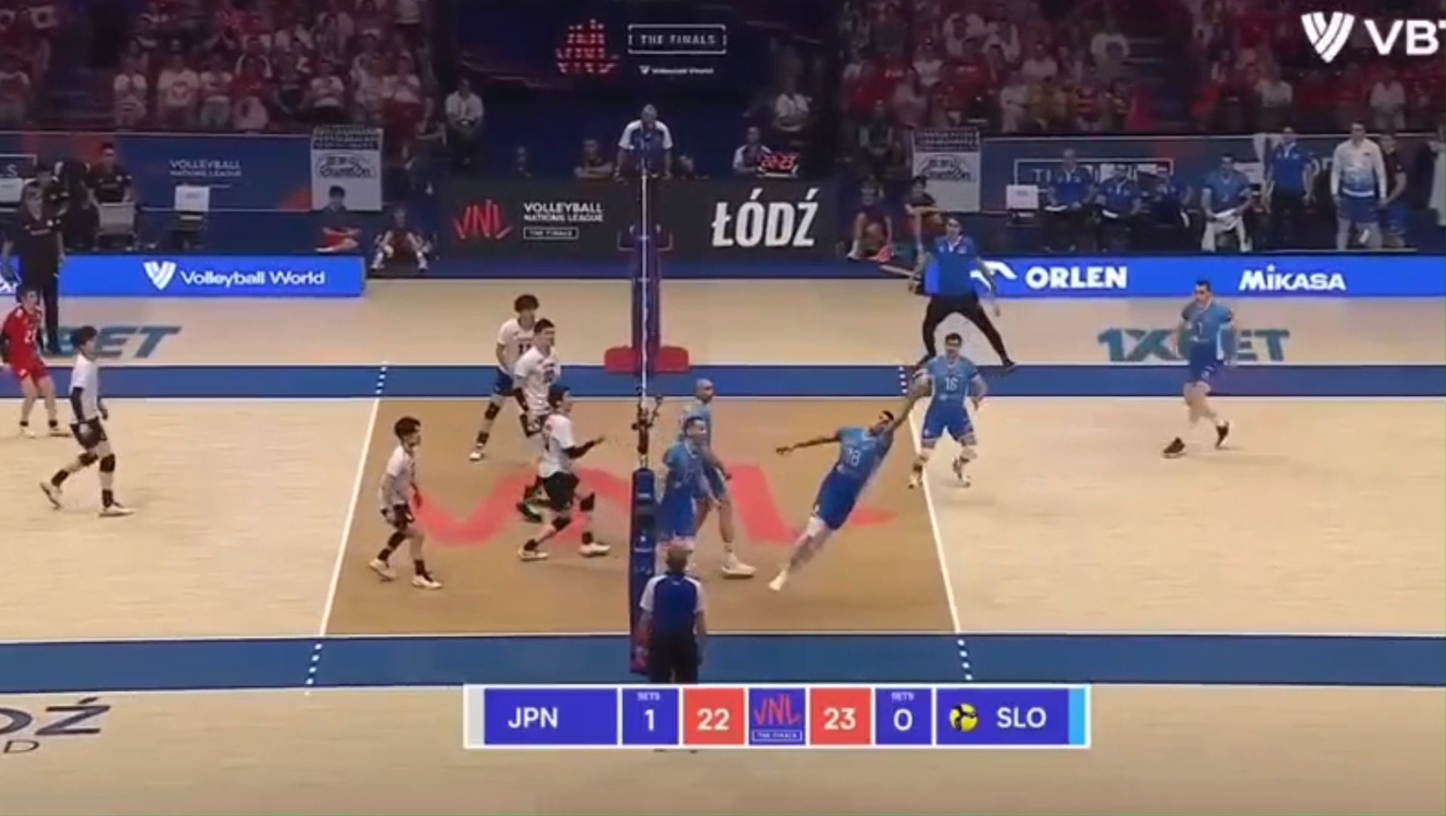ball: (909, 364, 925, 381)
player: (769, 411, 904, 591), (678, 379, 755, 578), (910, 332, 987, 487), (1170, 280, 1236, 447), (659, 416, 713, 545), (1162, 436, 1187, 457)
player 1: (40, 326, 132, 517), (518, 385, 610, 560), (369, 416, 441, 589), (468, 294, 539, 462), (0, 286, 63, 434), (513, 319, 561, 466), (518, 474, 540, 521)
referee: (919, 219, 1014, 369), (5, 192, 63, 352), (639, 545, 706, 683), (615, 104, 673, 252)
